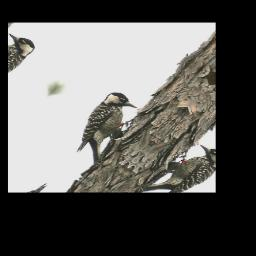Woodpecker: (59, 89, 151, 166)
